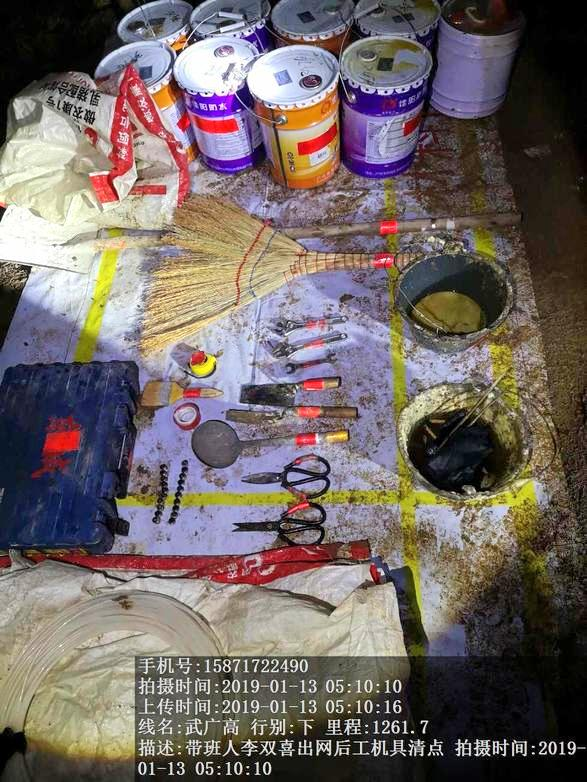SB: (136, 188, 392, 334)
SG: (6, 585, 130, 747)
SNT: (395, 377, 549, 511), (393, 257, 515, 351)
